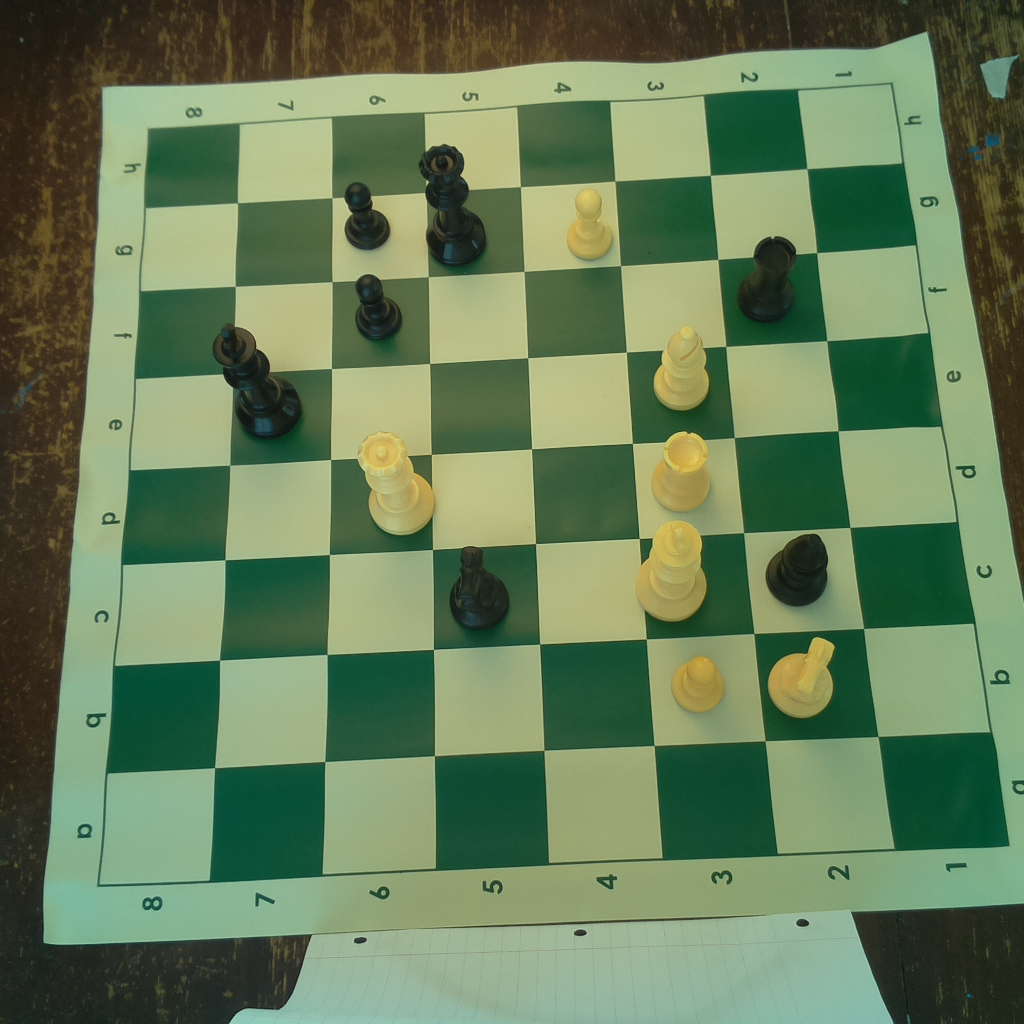black_bishop: (764, 531, 832, 610)
black_king: (207, 318, 306, 439)
black_knight: (441, 544, 514, 631)
black_pawn: (349, 271, 410, 345), (336, 183, 398, 254)
black_queen: (420, 139, 490, 269)
black_rook: (740, 227, 801, 328)
file_a: (96, 732, 1010, 884)
file_b: (107, 622, 992, 774)
file_c: (115, 523, 977, 667)
file_d: (123, 427, 959, 566)
file_e: (131, 334, 944, 470)
file_f: (136, 245, 929, 379)
file_g: (138, 164, 919, 292)
file_h: (142, 83, 905, 210)
outline: (99, 84, 1008, 888)
rank_1: (798, 83, 1010, 852)
rank_2: (705, 90, 894, 853)
rank_3: (611, 96, 780, 861)
rank_4: (516, 101, 663, 865)
rank_5: (423, 104, 550, 873)
rank_6: (319, 113, 436, 871)
rank_7: (210, 119, 333, 884)
rank_8: (97, 123, 241, 891)
white_bishop: (654, 325, 710, 410)
white_king: (634, 518, 710, 623)
white_knight: (764, 631, 837, 721)
white_pawn: (564, 182, 620, 264), (671, 648, 729, 710)
white_queen: (354, 422, 442, 541)
white_rook: (647, 426, 716, 517)
